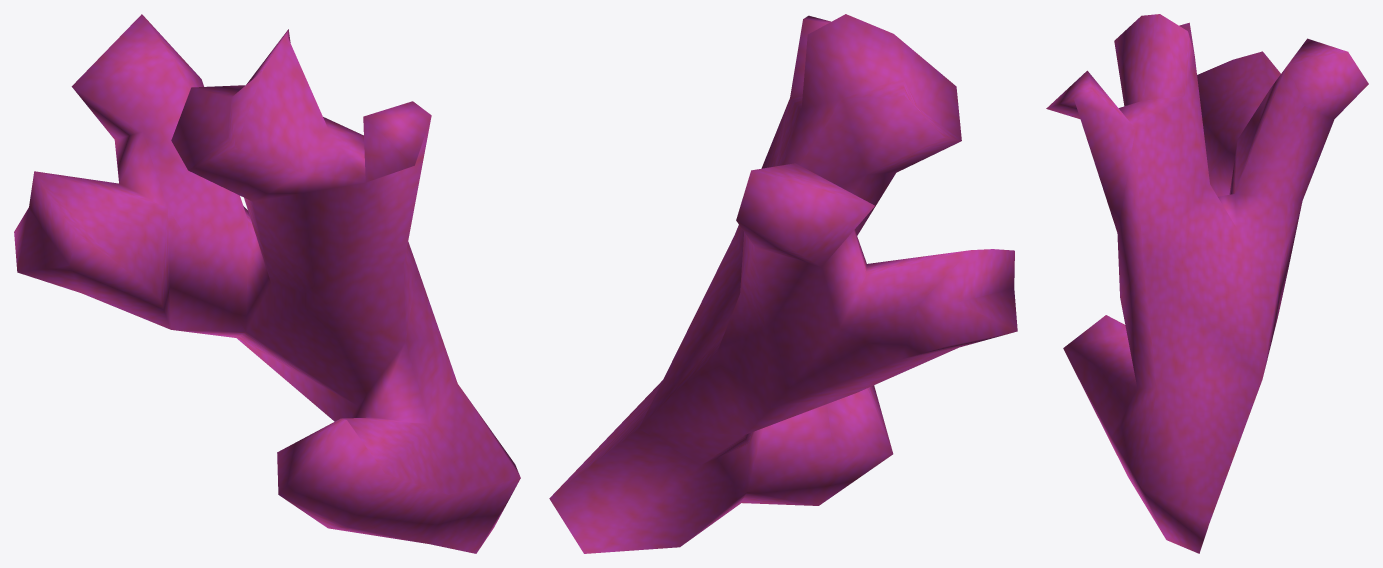
Rendered from my_mesh_Coral 9 Watertight Small.glb.
3 renders of one model, left to right at view 1: azimuth 30°, elevation 25°; view 2: azimuth 150°, elevation 25°; view 3: azimuth 270°, elevation 25°, orthographic. The views are drawn at different scales.
Visible parts, largest first — view 1: Coral 9 Watertight Small; view 2: Coral 9 Watertight Small; view 3: Coral 9 Watertight Small.
Part boxes in pixels (x1=…): Coral 9 Watertight Small: x1=14, y1=14, x2=520, y2=553; Coral 9 Watertight Small: x1=549, y1=14, x2=1017, y2=553; Coral 9 Watertight Small: x1=1046, y1=14, x2=1368, y2=553.
Size of the model in its own units: 69.1 by 78.54 by 50.95.
Materials: 1 (1 with a texture image).
